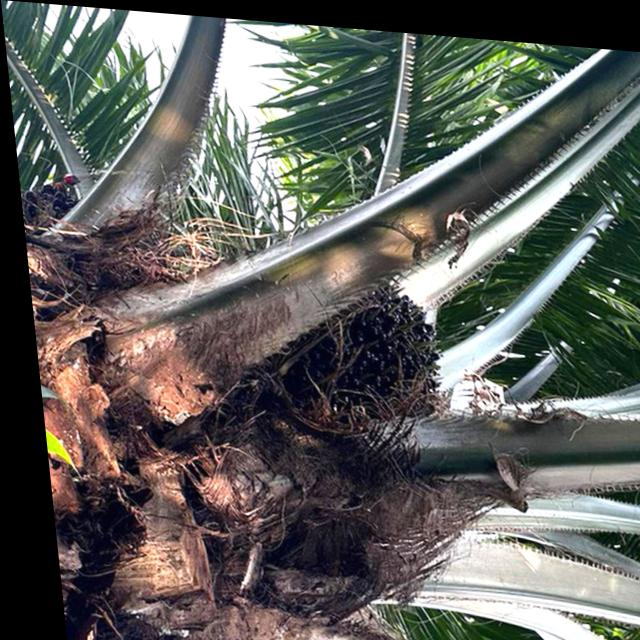ripe: (295, 268, 448, 415)
